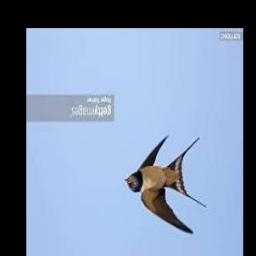Swallow: (125, 136, 207, 235)
